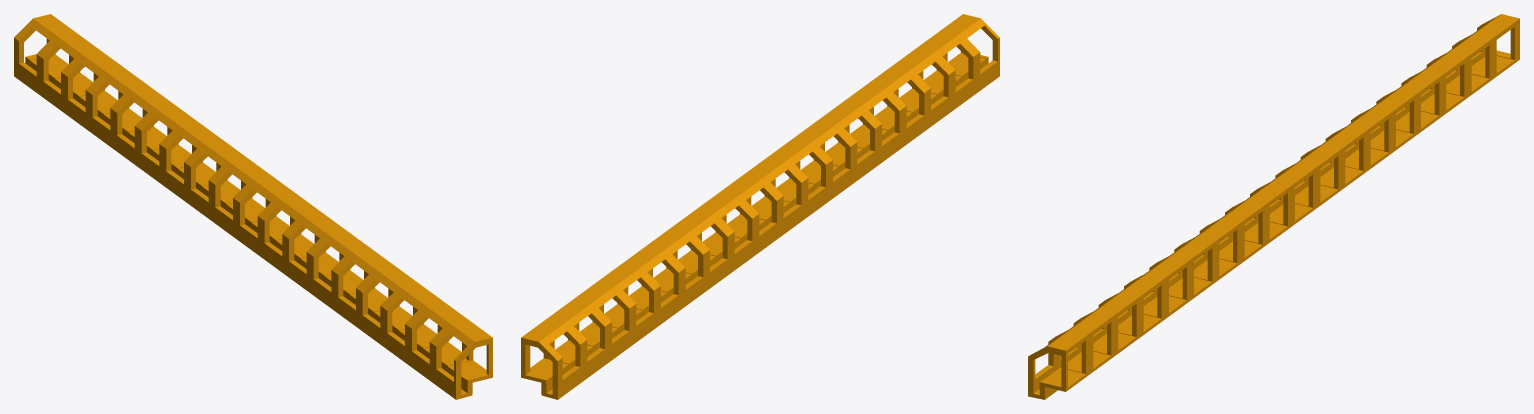
File: swarmfarmv2_spray_boom.dae
The picture shows the model from 3 angles, left to right: view 1: azimuth 30°, elevation 25°; view 2: azimuth 150°, elevation 25°; view 3: azimuth 330°, elevation 25°; orthographic projection. The views are drawn at different scales.
Visible parts, largest first — view 1: node0.004; view 2: node0.004; view 3: node0.004.
Part boxes in pixels (box(x1,y1,x2,y2)): node0.004: box(14, 14, 492, 399); node0.004: box(521, 14, 999, 399); node0.004: box(1028, 14, 1519, 399).
Size of the model in its own units: 0.2402 by 5 by 0.3332.
